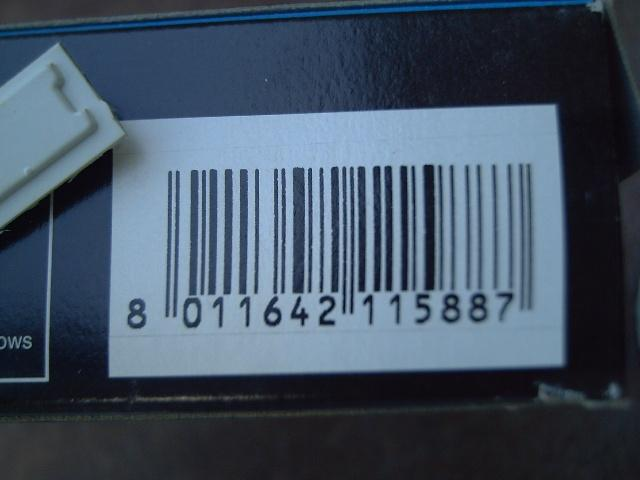Barcode: (115, 153, 544, 346)
